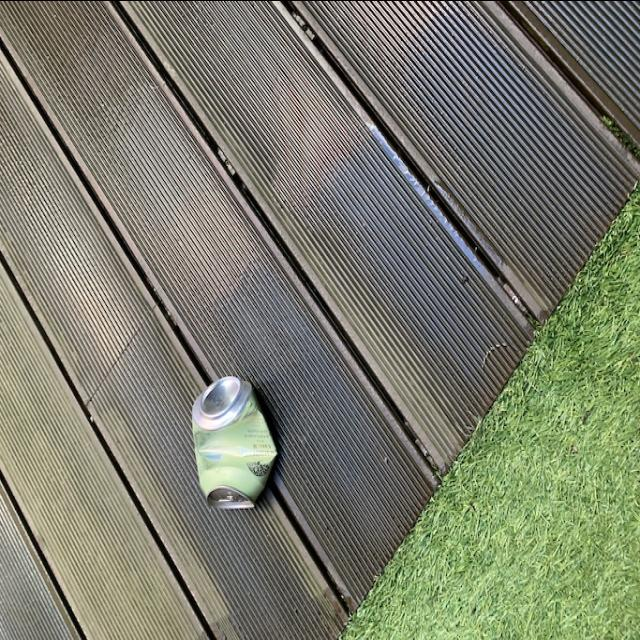litter: (185, 358, 284, 524)
